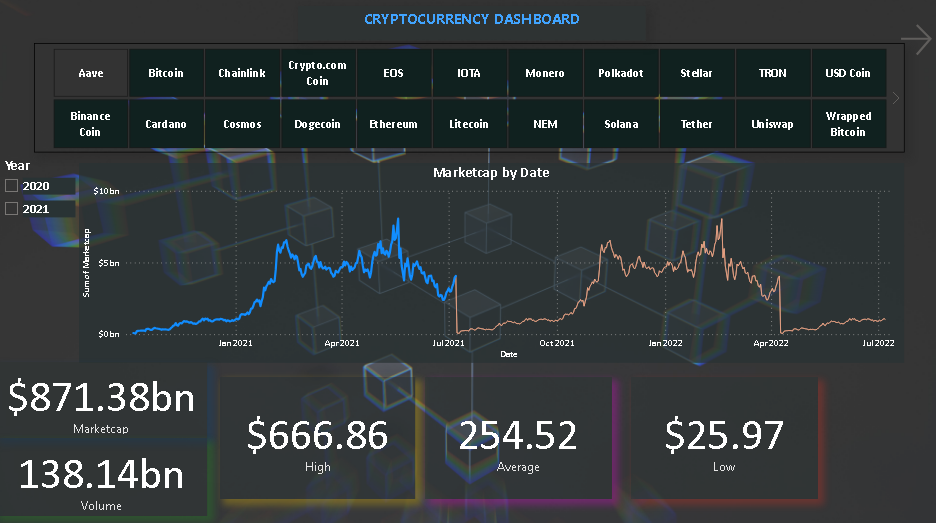

What the dashboard file says about the page in this screenshot:
{"tool":"powerbi","page":{"name":"page 2","canvas":[1280,720],"ordinal":1},"visuals":[{"type":"slicer","fields":{"Values":["archive__5.Name"]},"box":[52.4,60.9,1184.9,148.8],"z":0},{"type":"slicer","fields":{"Values":["archive__5.Year"]},"box":[0,209.8,114.8,286.3],"z":1000},{"type":"lineChart","title":"Marketcap by Date","fields":{"Category":["archive__5.Date"],"Y":["archive__5.Marketcap"]},"box":[114.8,223.9,1122.5,272.1],"z":2000},{"type":"actionButton","box":[1226.2,0,53.8,114.2],"z":3000},{"type":"textbox","box":[412.4,11.3,473.4,46.8],"z":4000},{"type":"card","fields":{"Values":["archive__5.Marketcap"]},"box":[0,496.1,289.1,103.5],"z":5000},{"type":"card","fields":{"Values":["archive__5.Volume"]},"box":[0,599.5,289.1,106.3],"z":6000},{"type":"card","fields":{"Values":["archive__5.High"]},"box":[306.1,515.9,266.4,165.8],"z":7000},{"type":"card","fields":{"Values":["archive__5.Low"]},"box":[866,515.9,253.7,165.8],"z":8000},{"type":"card","fields":{"Values":["archive__5.Average"]},"box":[585.4,515.9,253.7,165.8],"z":9000}]}

Visuals, with their boxes in screenshot pixels (x1, y1, x2, y2), scaled from the page's 1280x720 canvas onto the 936x523 screenshot:
slicer - archive__5.Name: [left=38, top=44, right=905, bottom=152]
slicer - archive__5.Year: [left=0, top=152, right=84, bottom=360]
"Marketcap by Date" lineChart: [left=84, top=163, right=905, bottom=360]
actionButton: [left=897, top=0, right=935, bottom=83]
textbox: [left=302, top=8, right=648, bottom=42]
card - archive__5.Marketcap: [left=0, top=360, right=211, bottom=436]
card - archive__5.Volume: [left=0, top=435, right=211, bottom=513]
card - archive__5.High: [left=224, top=375, right=419, bottom=495]
card - archive__5.Low: [left=633, top=375, right=819, bottom=495]
card - archive__5.Average: [left=428, top=375, right=614, bottom=495]
